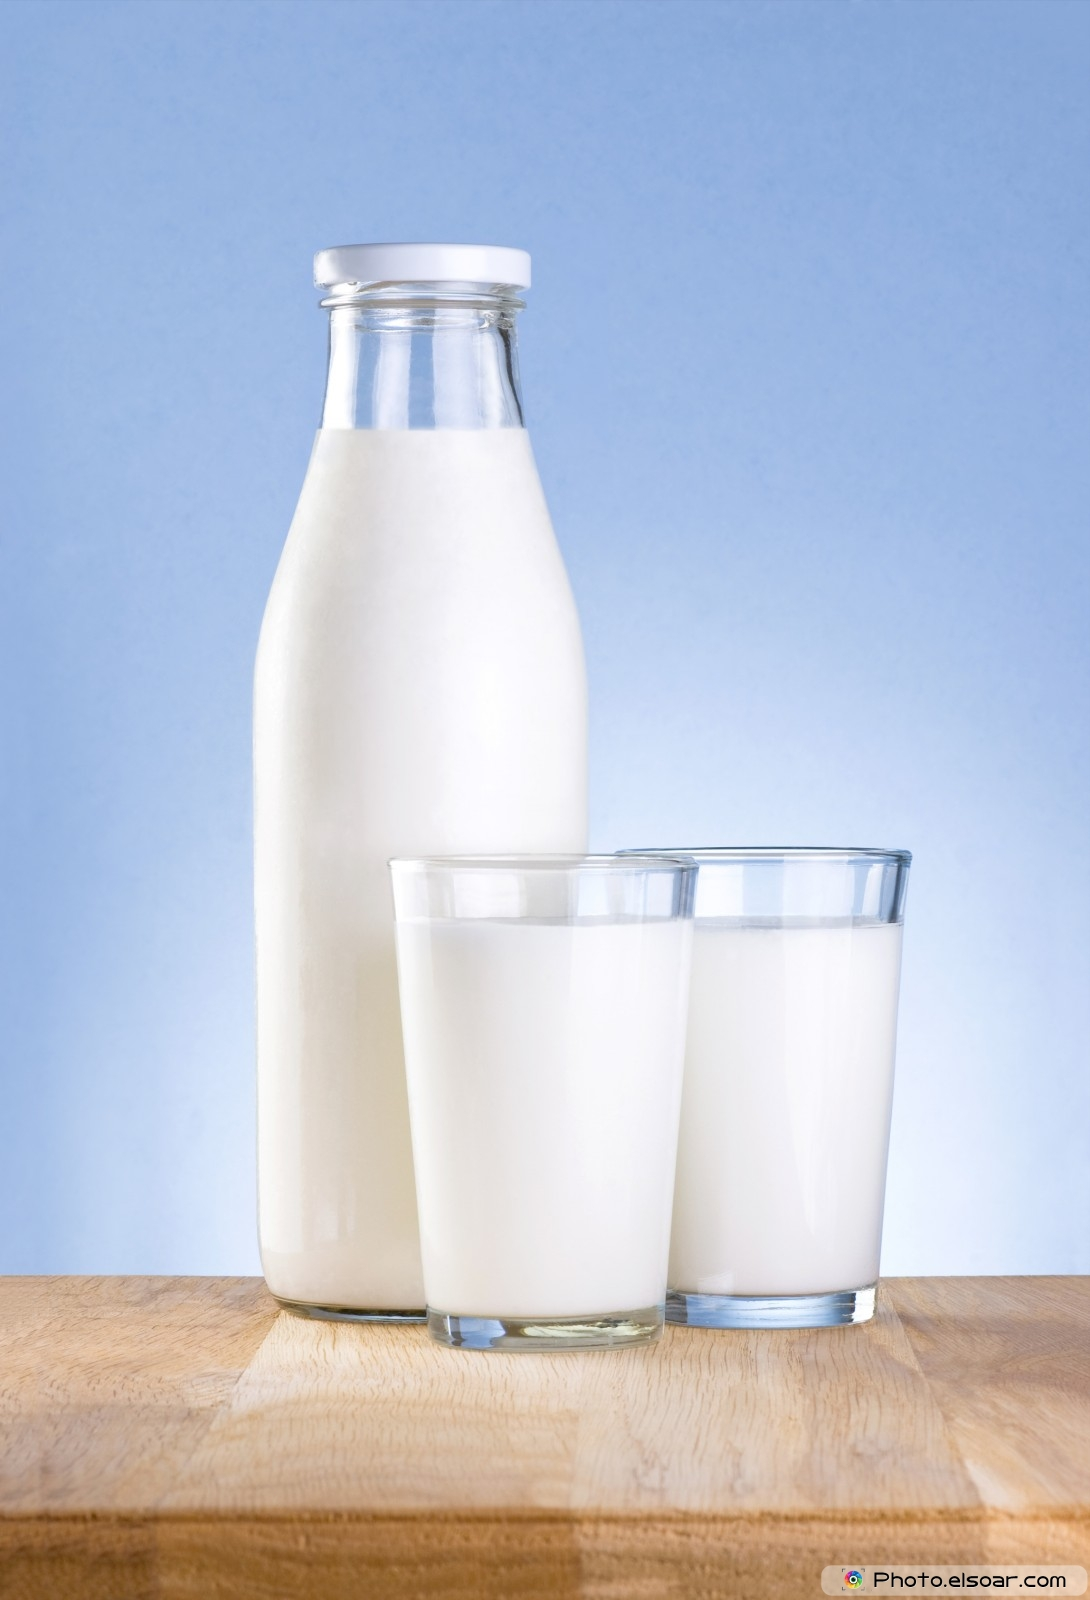glass of milk: (307, 286, 536, 1319), (414, 839, 705, 1343), (670, 839, 894, 1317)
